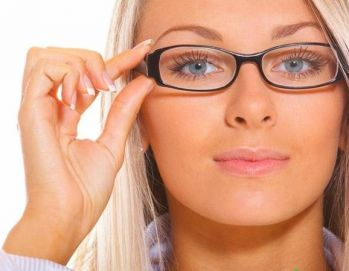glasses: (132, 38, 347, 97)
